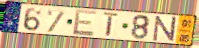6: (23, 7, 43, 32)
7: (46, 7, 67, 34)
8: (130, 14, 151, 41)
E: (72, 8, 99, 37)
N: (152, 15, 178, 43)
T: (102, 11, 121, 38)
